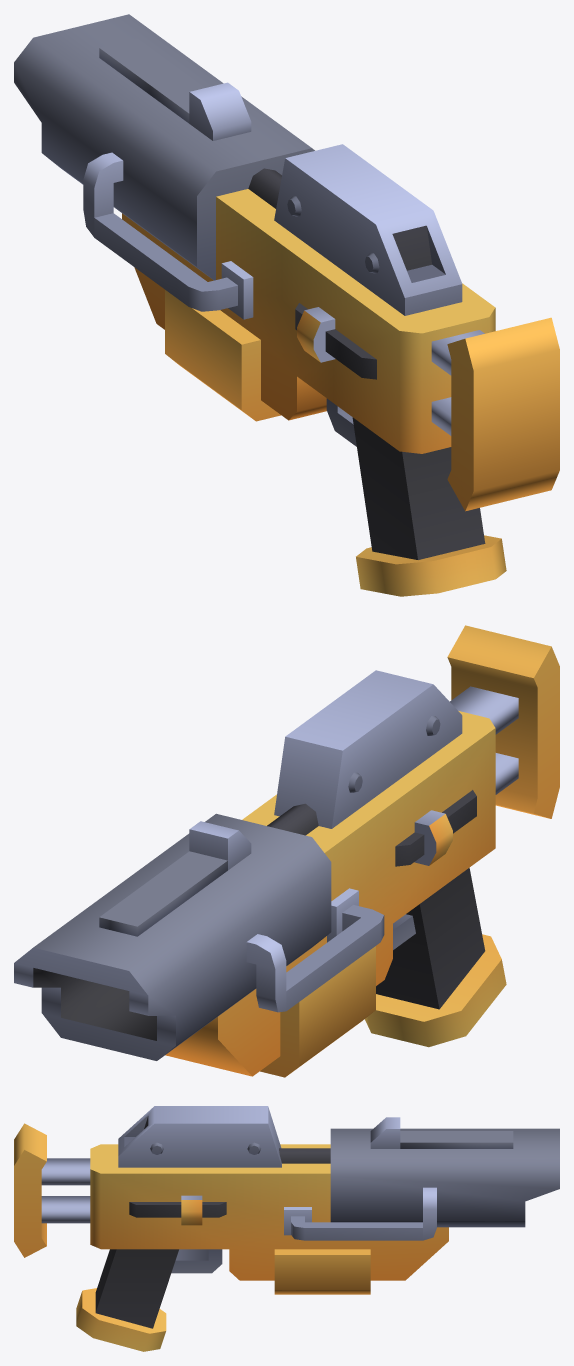
The model's file is blaster-g.glb.
3 views of the same model, one above another, from view 1: azimuth 30°, elevation 25°; view 2: azimuth 150°, elevation 25°; view 3: azimuth 270°, elevation 25° (orthographic). The views are drawn at different scales.
Visible parts, largest first — view 1: blaster-g; view 2: blaster-g; view 3: blaster-g.
Part boxes in pixels (left/top/right/bottom): blaster-g: left=14, top=14, right=559, bottom=596; blaster-g: left=14, top=625, right=559, bottom=1077; blaster-g: left=14, top=1106, right=559, bottom=1351.
Size of the model in its own units: 0.2 by 0.3579 by 0.7859.
Materials: 1 (1 with a texture image).
